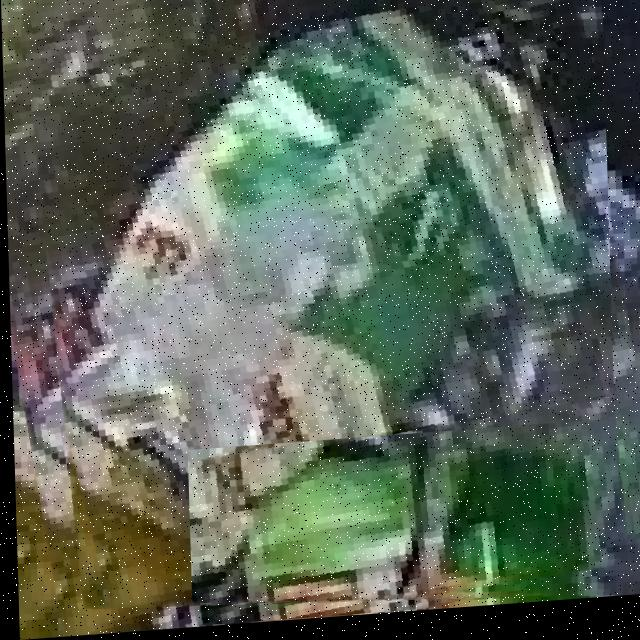litter: (53, 0, 607, 612), (187, 430, 627, 612)
